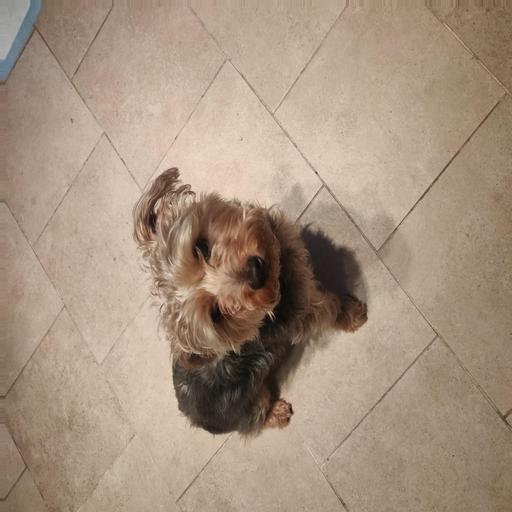dog: (131, 169, 394, 432)
